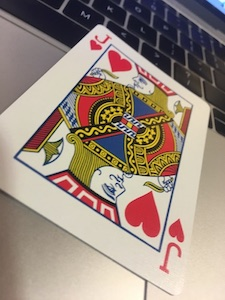JackOfHearts: (1, 21, 212, 297)
